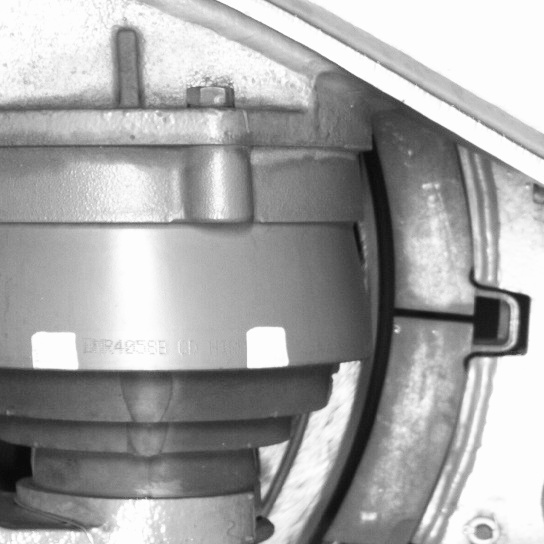KnifeSwitch: (293, 146, 499, 542)
